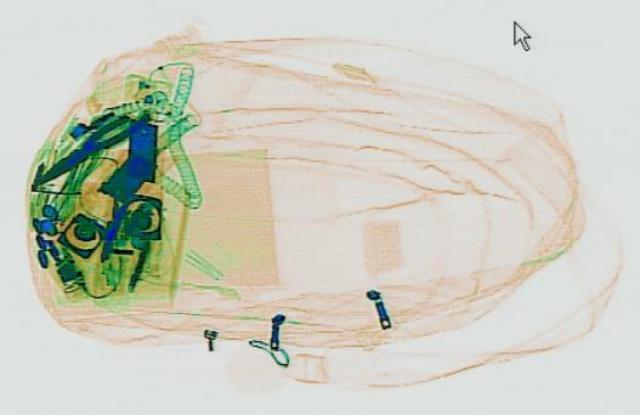Pliers: (22, 111, 144, 190)
